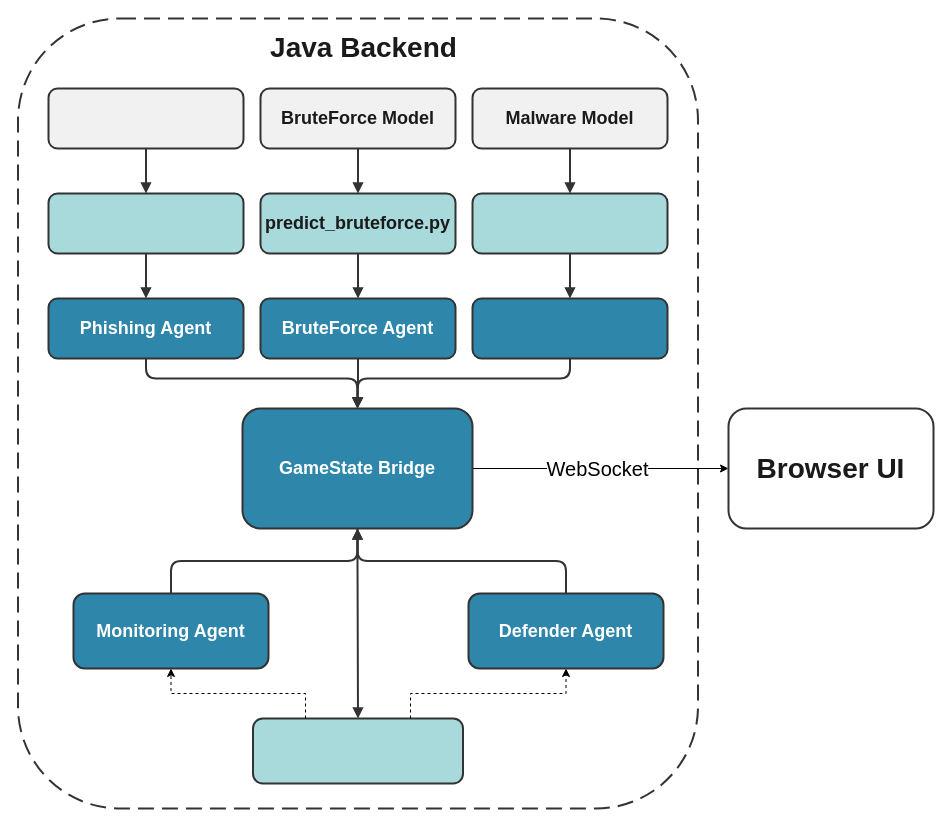
Some shapes in this 952 by 826 pixel diagram are drawn without their labels. Here are the shapes that lost their labels. From the top down, the centre of each, then its label:
[145,118]: Phishing Model
[145,223]: predict_phishing.py
[569,223]: predict_malware.py
[569,328]: Malware Agent
[358,750]: GameFlow Controller
